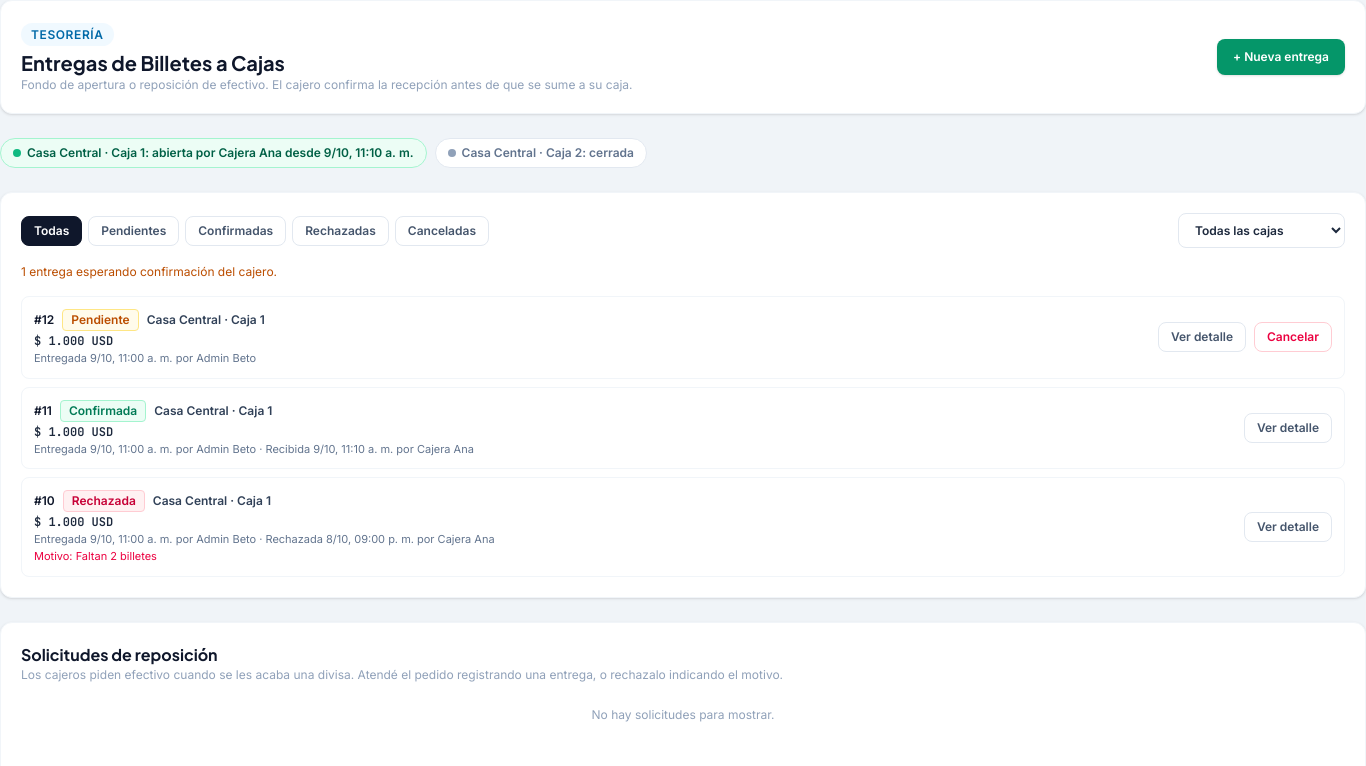
Scenario: CashDeliveries (PI-43) › muestra el detalle por denominación
The image size is (1366, 766).
Expected: the text "#12" is shown, x1=34 y1=312 x2=54 y2=328
Click the button "Ver detalle" in the row of "12" at (1202, 337), box x1=1158 y1=322 x2=1246 y2=352
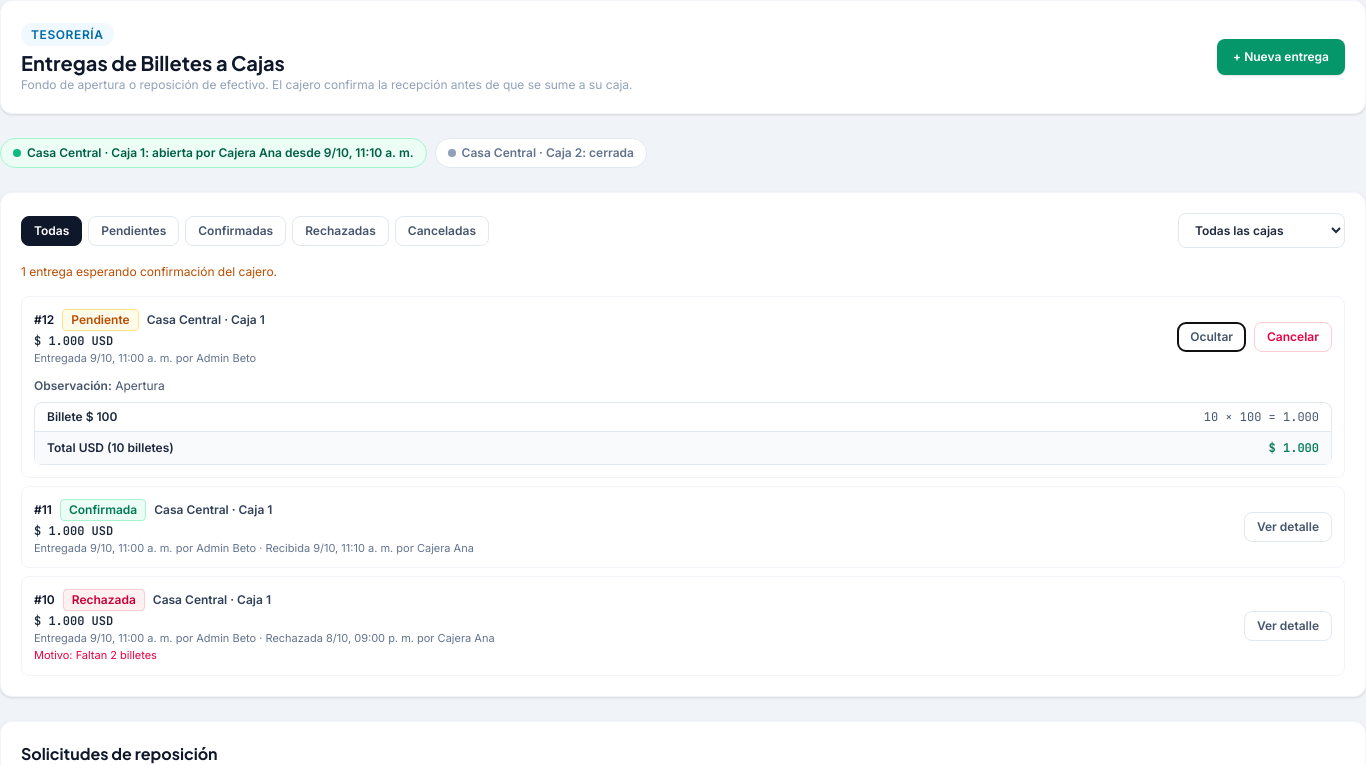
Expected: the text "10 × 100 = 1.000" is shown, x1=1204 y1=409 x2=1319 y2=425
Expected: the text "Total USD (10 billetes)" is shown, x1=47 y1=440 x2=174 y2=456
